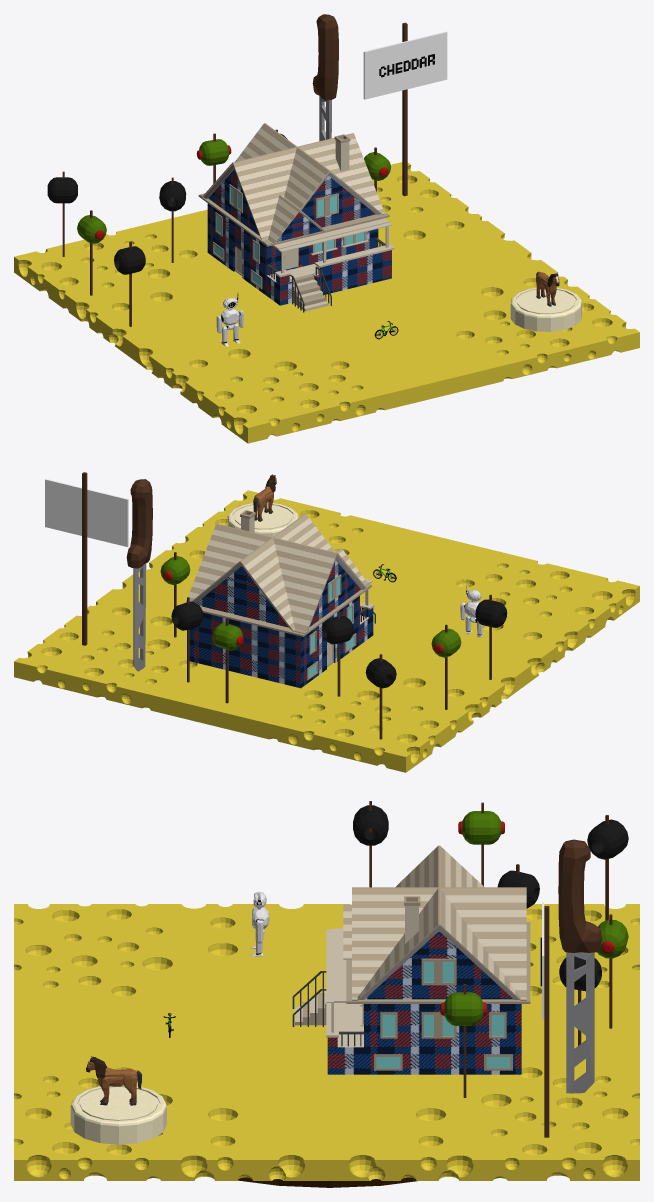
3 renders of one model, top to bottom at view 1: azimuth 30°, elevation 25°; view 2: azimuth 150°, elevation 25°; view 3: azimuth 270°, elevation 25°, orthographic. The views are drawn at different scales.
Parts seen in each view (by area): view 1: Cube.022, Cube.171, Cube.023, Cylinder.016, Cube.024, Sphere.017, Sphere.016, OBJRANDOM_PLATZEEBOT, Sphere.020, Sphere.018, Sphere.022, Sphere.019 (+1 smaller); view 2: Cube.022, Cube.171, Cube.023, Cube.024, Cylinder.016, Sphere.020, Sphere.016, Sphere.022, Sphere.017, Sphere.021, Sphere.018, Sphere.019 (+2 smaller); view 3: Cube.022, Cube.171, Cube.024, Cylinder.016, Cube.023, Sphere.019, Sphere.016, Sphere.018, Sphere.017, ANIMAL_CABALLO, Sphere.022, Cylinder (+3 smaller).
Part boxes in pixels (x1,y1,x2,y2): Cube.022: (14, 162, 639, 443); Cube.171: (198, 123, 394, 312); Cube.023: (363, 22, 447, 196); Cylinder.016: (510, 287, 581, 331); Cube.024: (312, 14, 338, 141); Sphere.017: (114, 241, 145, 326); Sphere.016: (47, 171, 77, 256); OBJRANDOM_PLATZEEBOT: (216, 293, 243, 346); Sphere.020: (159, 177, 186, 262); Sphere.018: (77, 210, 106, 295); Sphere.022: (196, 133, 231, 183); Sphere.019: (364, 147, 390, 191); Cube.022: (14, 490, 639, 772); Cube.171: (184, 510, 375, 688); Cube.023: (45, 472, 128, 645); Cube.024: (126, 479, 152, 671); Cylinder.016: (227, 502, 298, 536); Sphere.020: (322, 611, 353, 696); Sphere.016: (365, 654, 396, 739); Sphere.022: (212, 618, 243, 703); Sphere.017: (475, 594, 507, 679); Sphere.021: (171, 597, 203, 682); Sphere.018: (431, 624, 461, 709); Sphere.019: (160, 552, 190, 637); Cube.022: (14, 904, 639, 1180); Cube.171: (292, 845, 530, 1074); Cube.024: (558, 839, 601, 1093); Cylinder.016: (70, 1085, 166, 1144); Cube.023: (540, 902, 549, 1137); Sphere.019: (440, 984, 487, 1097); Sphere.016: (587, 815, 628, 920); Sphere.018: (458, 802, 504, 885); Sphere.017: (353, 801, 388, 887); ANIMAL_CABALLO: (86, 1056, 142, 1105); Sphere.022: (597, 914, 628, 1028); Cylinder: (237, 1177, 417, 1187).
Size of the model in its own units: 3917 by 2073 by 4000.
36 materials, 4 textured.
